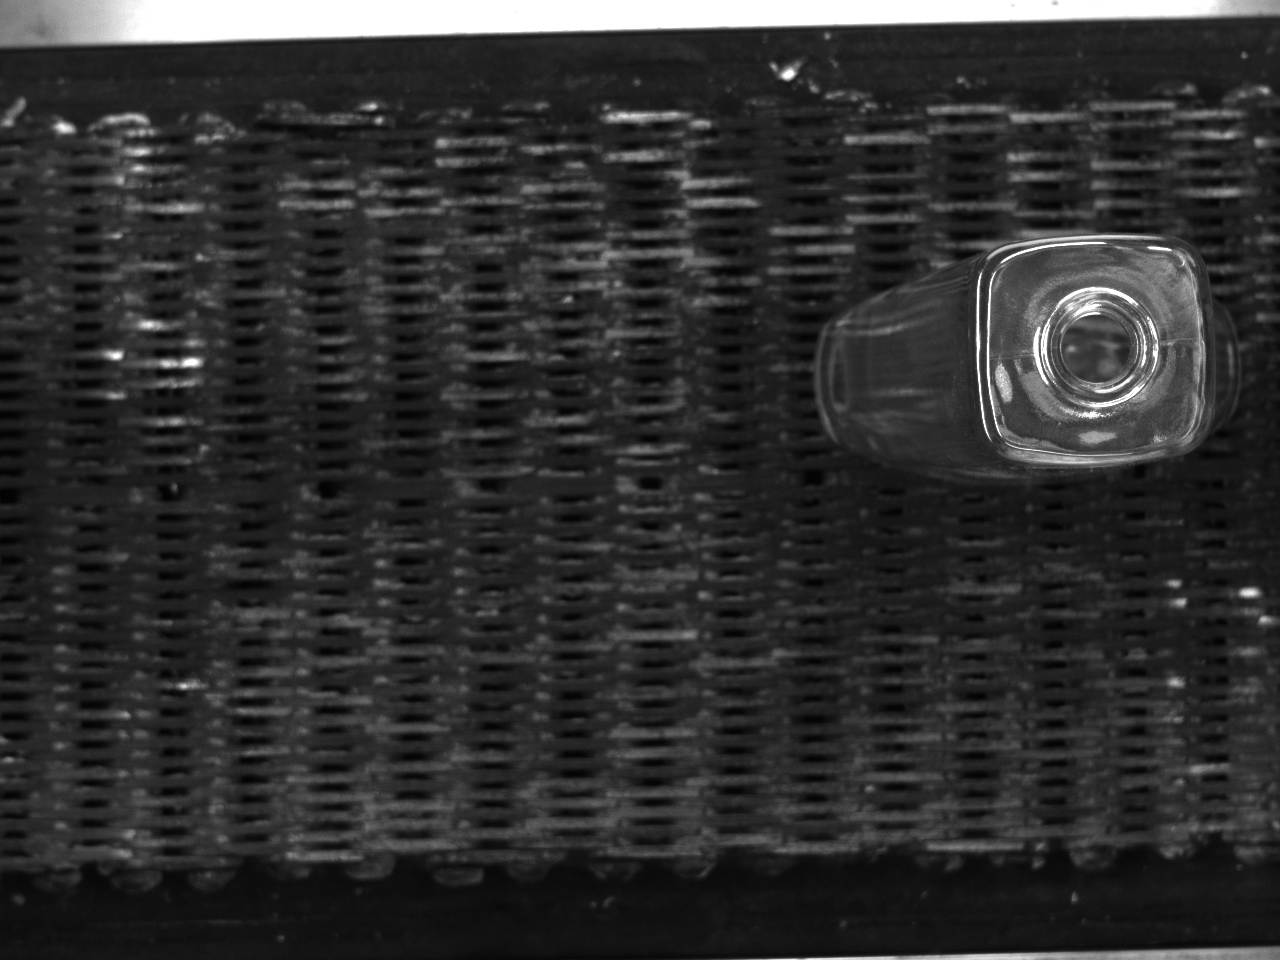bottleneck: (1044, 288, 1158, 406)
